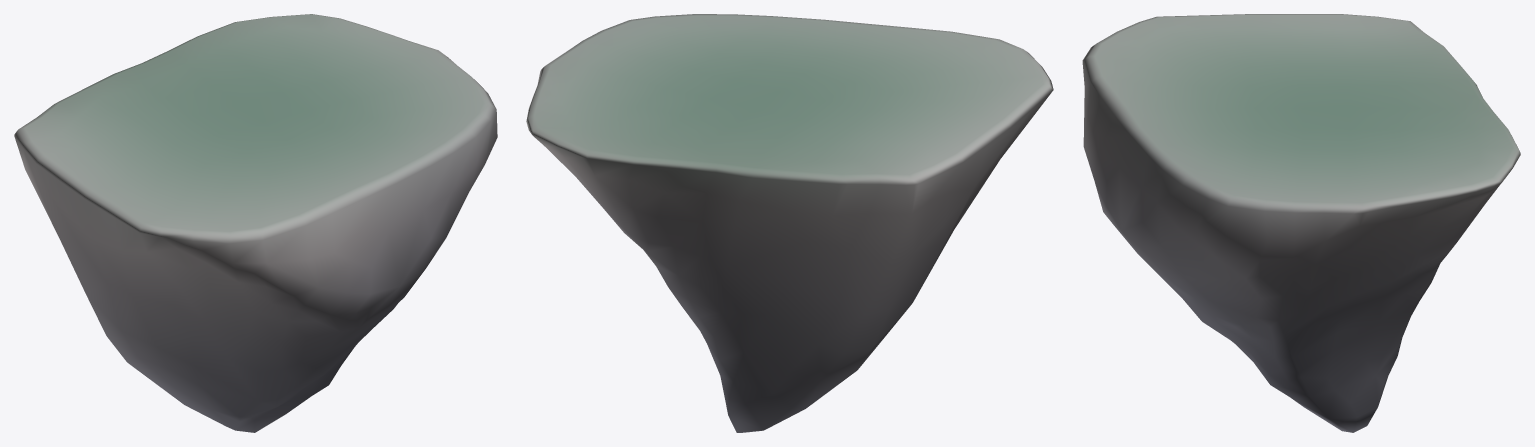
File: S_IslandSmall_VarA.fbx
The picture shows the model from 3 angles, left to right: view 1: azimuth 30°, elevation 25°; view 2: azimuth 150°, elevation 25°; view 3: azimuth 270°, elevation 25°; orthographic projection. The views are drawn at different scales.
Parts seen in each view (by area): view 1: IslandSmall_VarA_GEO; view 2: IslandSmall_VarA_GEO; view 3: IslandSmall_VarA_GEO.
Part boxes in pixels (<box>): IslandSmall_VarA_GEO: <box>14,14,497,432</box>; IslandSmall_VarA_GEO: <box>526,14,1053,432</box>; IslandSmall_VarA_GEO: <box>1082,14,1520,432</box>.
Bounding box in the file's own units: 9.48 × 7.15 × 8.9.
